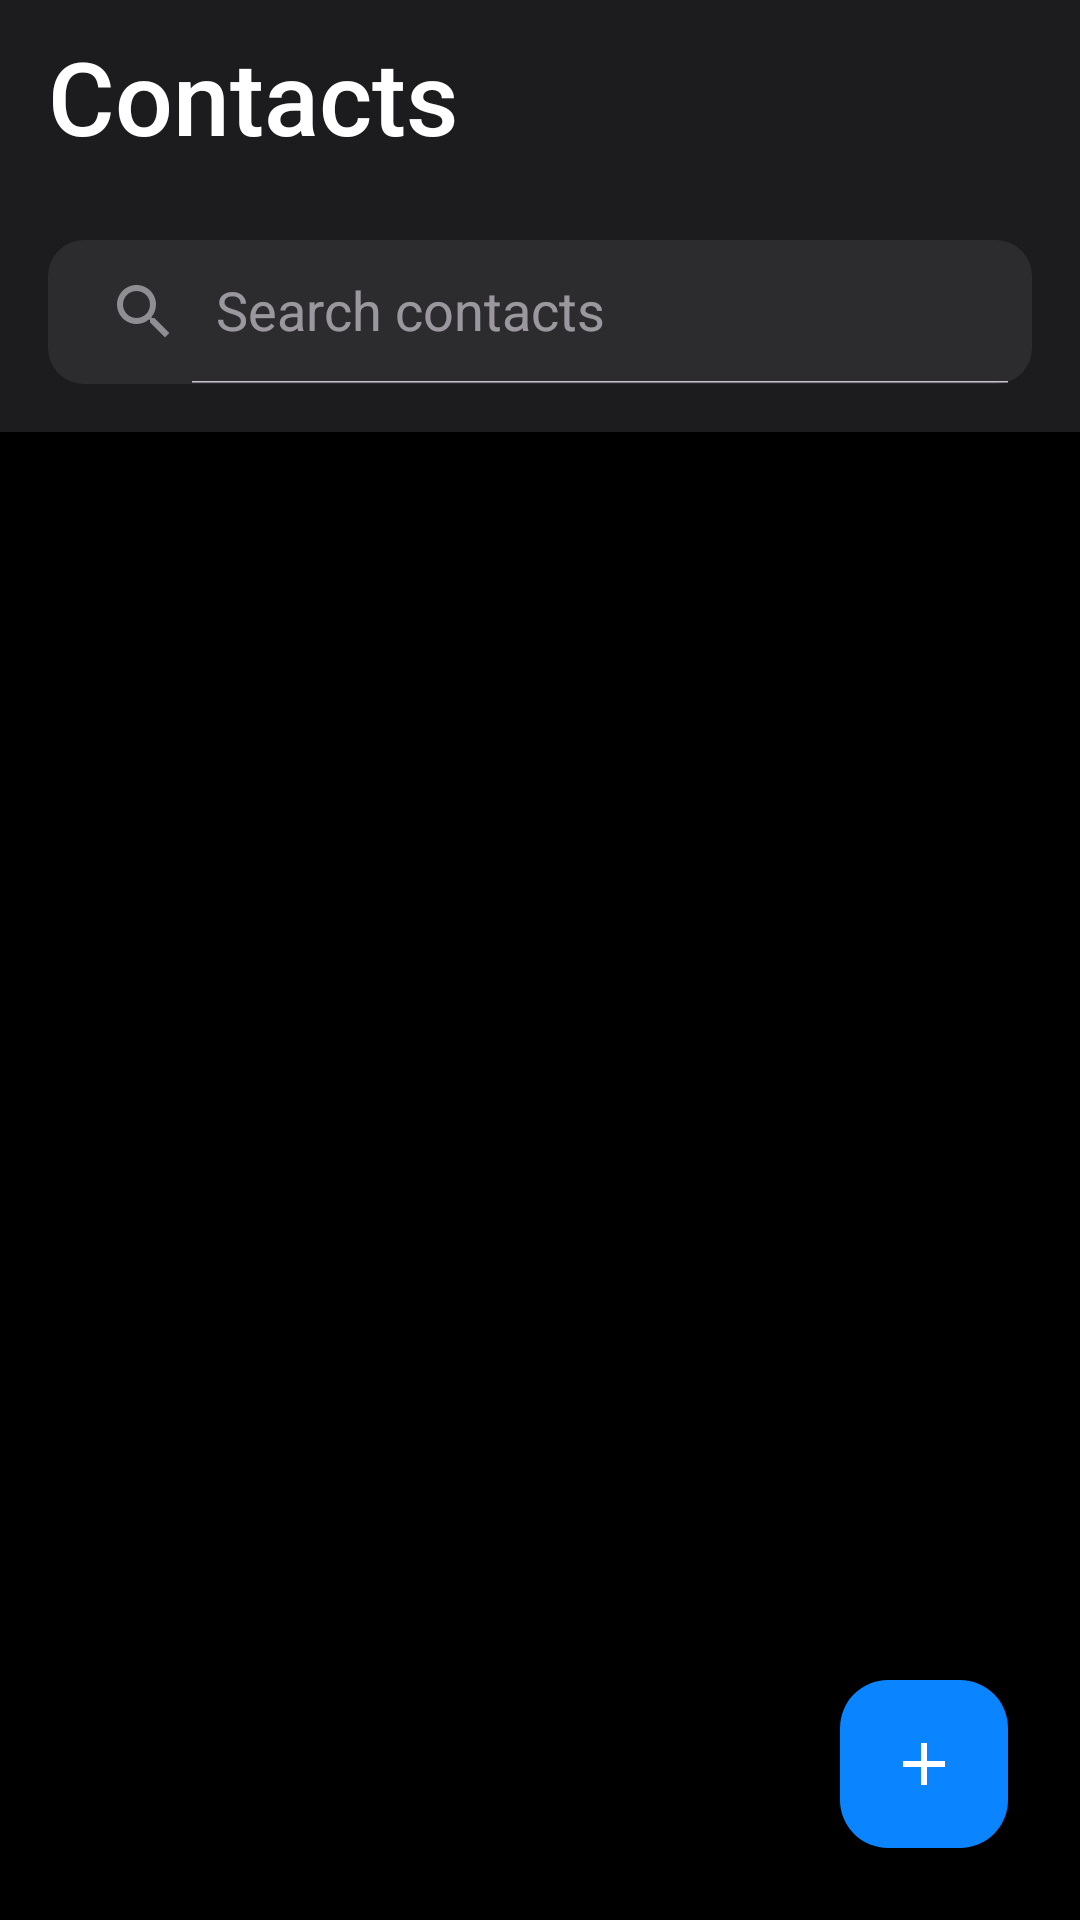

Icon bounding boxes for this 1080 × 1920 phone screenshot, format (x1, y1, x2, y2):
Add Contact: (840, 1680, 1008, 1848)
